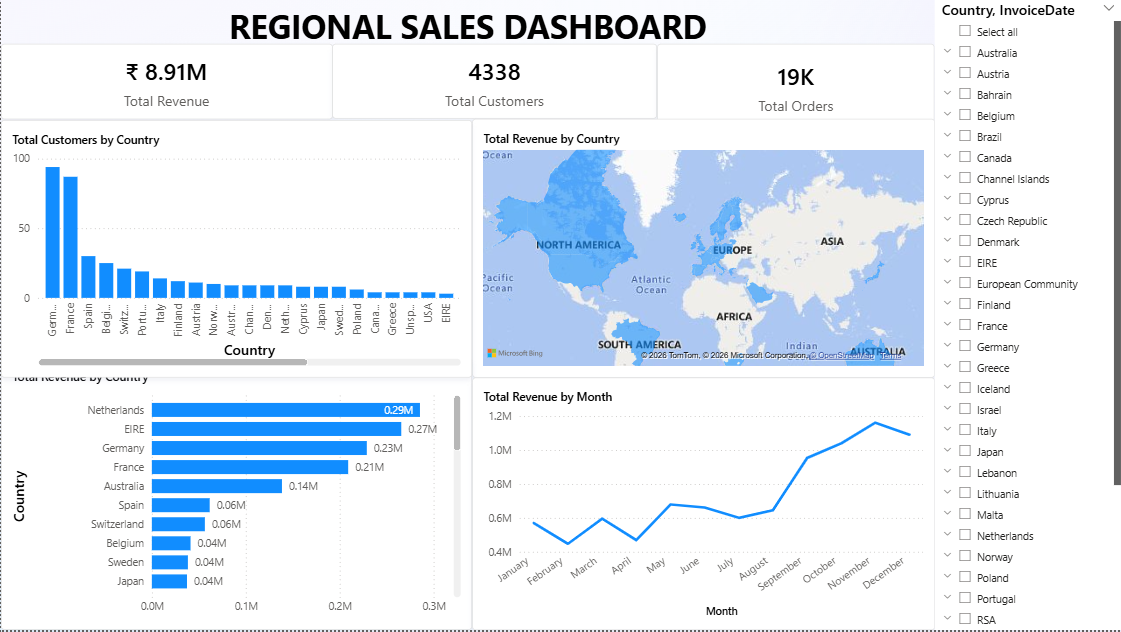

What the dashboard file says about the page in this screenshot:
{"tool":"powerbi","page":{"name":"Regional Dashboard","canvas":[1280,720],"ordinal":4},"visuals":[{"type":"textbox","box":[0,0,1067.1,61.4],"z":0},{"type":"card","fields":{"Values":["Online Retail.Total Revenue"]},"box":[0,49.4,378.8,86.5],"z":1000},{"type":"card","fields":{"Values":["Online Retail.Total Customers"]},"box":[378.6,50,371.4,85.7],"z":2000},{"type":"card","fields":{"Values":["Online Retail.Total Orders"]},"box":[750,50,317.1,98.6],"z":3000},{"type":"filledMap","fields":{"Category":["Online Retail.Country"],"Y":["Online Retail.Total Revenue"]},"box":[538.6,135.7,528.6,295.7],"z":4000},{"type":"barChart","fields":{"Category":["Online Retail.Country"],"Y":["Online Retail.Total Revenue"]},"box":[0,408.6,538.6,311.4],"z":5000},{"type":"columnChart","fields":{"Category":["Online Retail.Country"],"Y":["Online Retail.Total Customers"]},"box":[0,137.1,538.6,294.3],"z":6000},{"type":"lineChart","fields":{"Category":["Online Retail.InvoiceDate.Variation.Date Hierarchy.Month"],"Y":["Online Retail.Total Revenue"]},"box":[538.6,431.4,528.6,288.6],"z":7000},{"type":"slicer","fields":{"Values":["Online Retail.Country","Online Retail.InvoiceDate"]},"box":[1067.1,0,212.9,720],"z":8000}]}

Visuals, with their boxes on the page's 1280x720 design canvas (x1, y1, x2, y2). These are canvas units, not pixel positions in the 1121x632 screenshot, which may show the page scaled, cropped or inside an application window:
textbox: detection(0, 0, 1067, 61)
card - Online Retail.Total Revenue: detection(0, 49, 379, 136)
card - Online Retail.Total Customers: detection(379, 50, 750, 136)
card - Online Retail.Total Orders: detection(750, 50, 1067, 149)
filledMap - Online Retail.Country x Online Retail.Total Revenue: detection(539, 136, 1067, 431)
barChart - Online Retail.Country x Online Retail.Total Revenue: detection(0, 409, 539, 720)
columnChart - Online Retail.Country x Online Retail.Total Customers: detection(0, 137, 539, 431)
lineChart - Online Retail.InvoiceDate.Variation.Date Hierarchy.Month x Online Retail.Total Revenue: detection(539, 431, 1067, 720)
slicer - Online Retail.Country x Online Retail.InvoiceDate: detection(1067, 0, 1280, 720)
